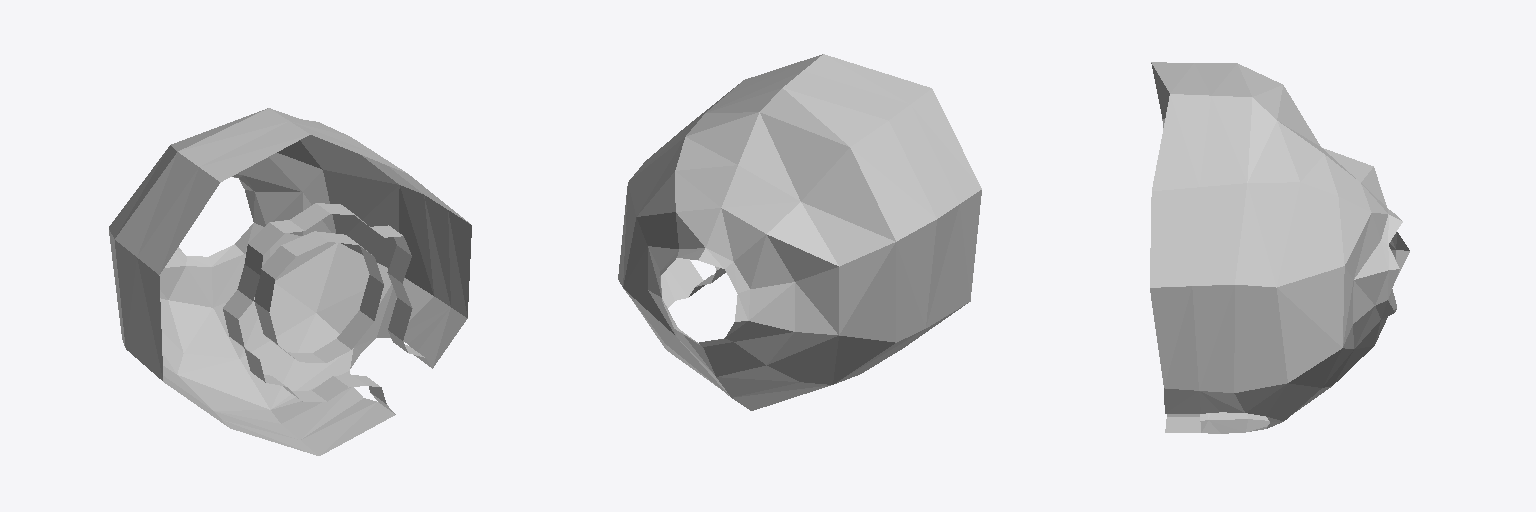
Rendered from polygon319.obj.
3 renders of one model, left to right at view 1: azimuth 30°, elevation 25°; view 2: azimuth 150°, elevation 25°; view 3: azimuth 270°, elevation 25°, orthographic.
Visible parts, largest first — view 1: polygon319; view 2: polygon319; view 3: polygon319.
Boxes of the visible parts, x1=… form: polygon319: x1=109, y1=108, x2=471, y2=455; polygon319: x1=618, y1=54, x2=981, y2=410; polygon319: x1=1150, y1=62, x2=1409, y2=433.
Size of the model in its own units: 1532 by 1525 by 1113.